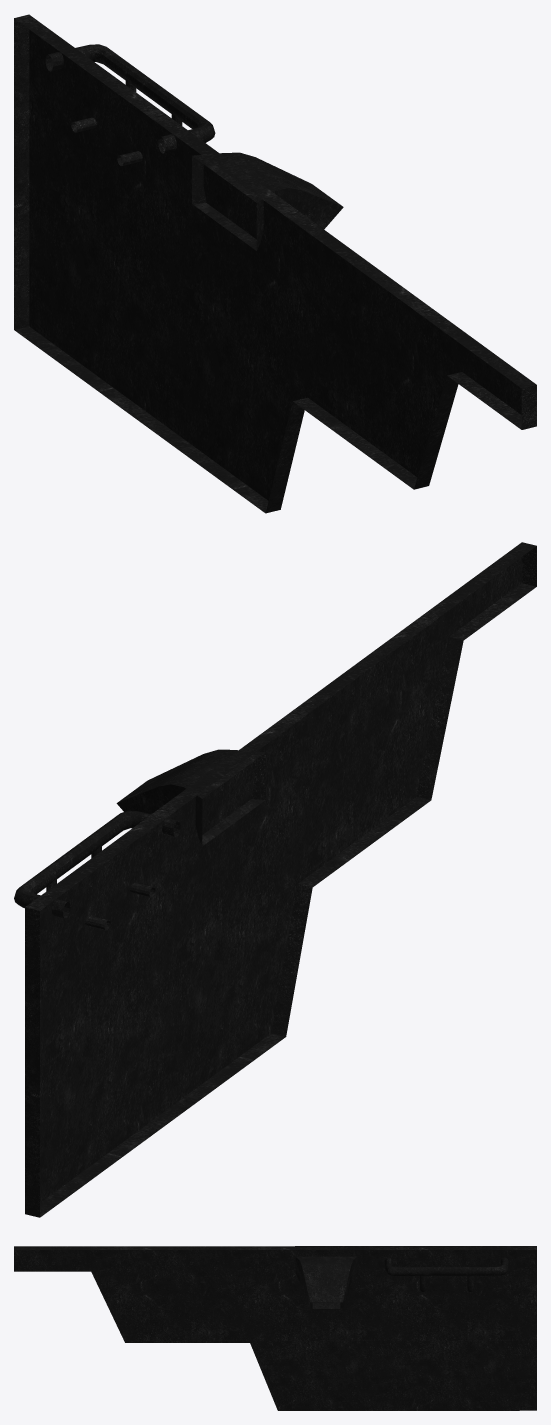
The model's file is duct.fbx.
The picture shows the model from 3 angles, top to bottom: view 1: azimuth 30°, elevation 25°; view 2: azimuth 150°, elevation 25°; view 3: azimuth 270°, elevation 25°; orthographic projection. The views are drawn at different scales.
Parts seen in each view (by area): view 1: pasted__pCube82; view 2: pasted__pCube82; view 3: pasted__pCube82.
Boxes of the visible parts, x1,y1,x2,y2 form: pasted__pCube82: (14, 14, 536, 513); pasted__pCube82: (14, 542, 536, 1217); pasted__pCube82: (14, 1246, 536, 1410).
Bounding box in the file's own units: 74.08 × 193 × 568.
1 material, 1 textured.
